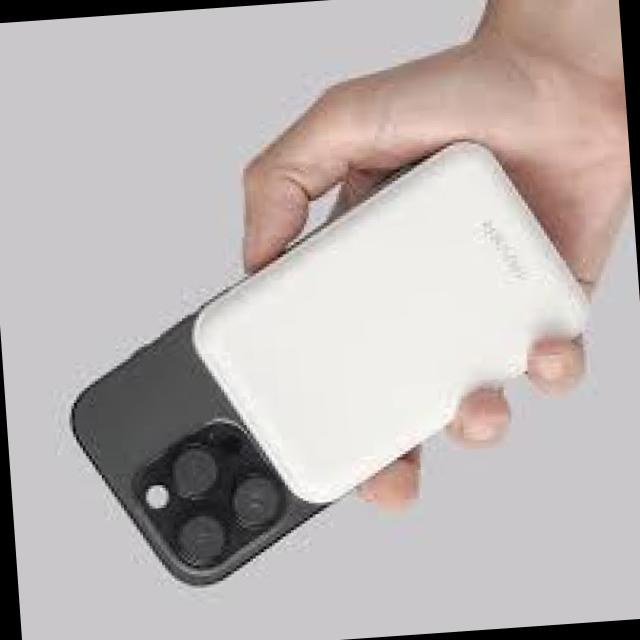portable-charger: (175, 126, 600, 514)
